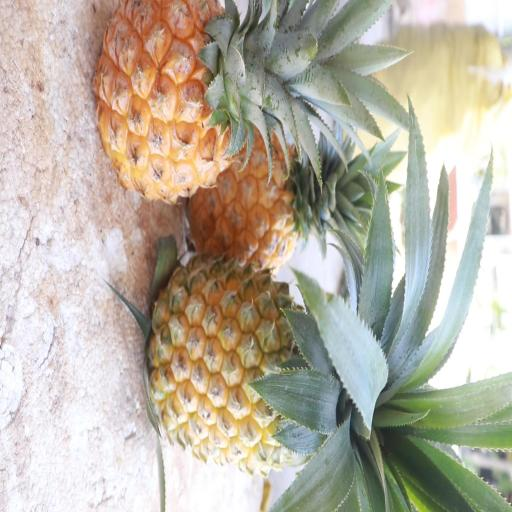Pineapple - v8 v1: (144, 249, 418, 464), (88, 1, 327, 223), (184, 111, 352, 275)
